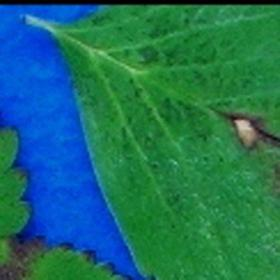Leaf Spot: (47, 5, 279, 279)
